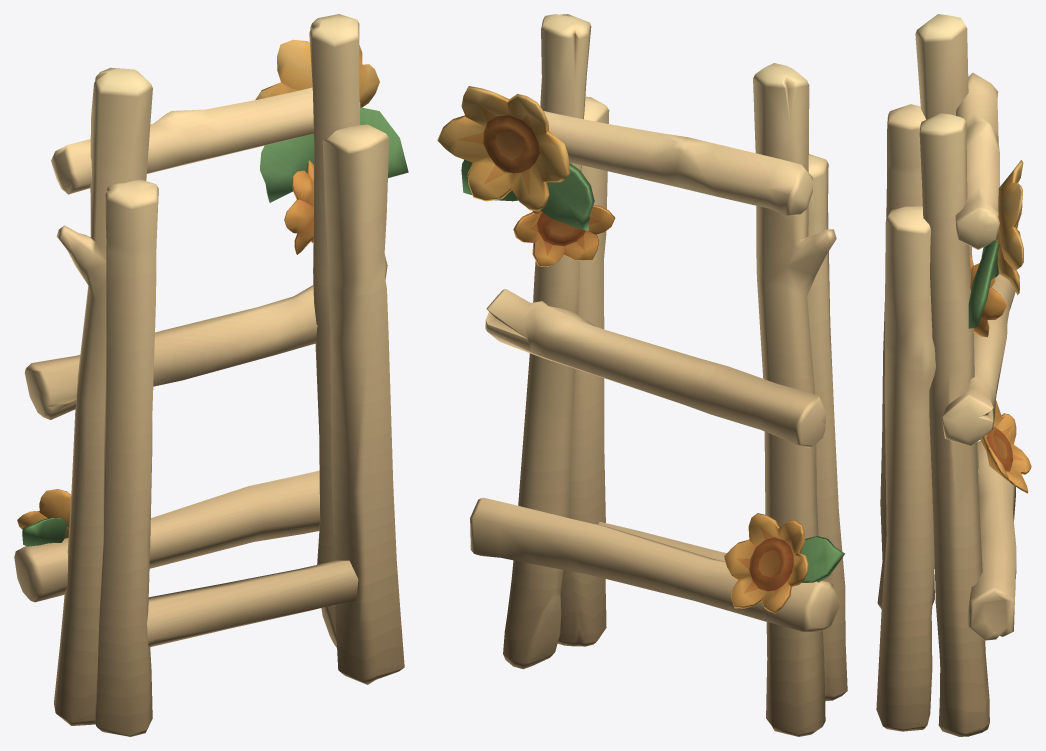
Rendered from CharSkyKid_Prop_SunflowerLadder.glb.
3 renders of one model, left to right at view 1: azimuth 30°, elevation 25°; view 2: azimuth 150°, elevation 25°; view 3: azimuth 270°, elevation 25°, orthographic. The views are drawn at different scales.
Parts seen in each view (by area): view 1: CharSkyKid_Prop_SunflowerLadder; view 2: CharSkyKid_Prop_SunflowerLadder; view 3: CharSkyKid_Prop_SunflowerLadder.
Part boxes in pixels (bbox=[...]): CharSkyKid_Prop_SunflowerLadder: bbox=[14, 14, 408, 736]; CharSkyKid_Prop_SunflowerLadder: bbox=[437, 14, 847, 736]; CharSkyKid_Prop_SunflowerLadder: bbox=[876, 14, 1031, 736].
Bounding box in the file's own units: 0.7443 × 1.2 × 0.2789.
Materials: 1 (1 with a texture image).
